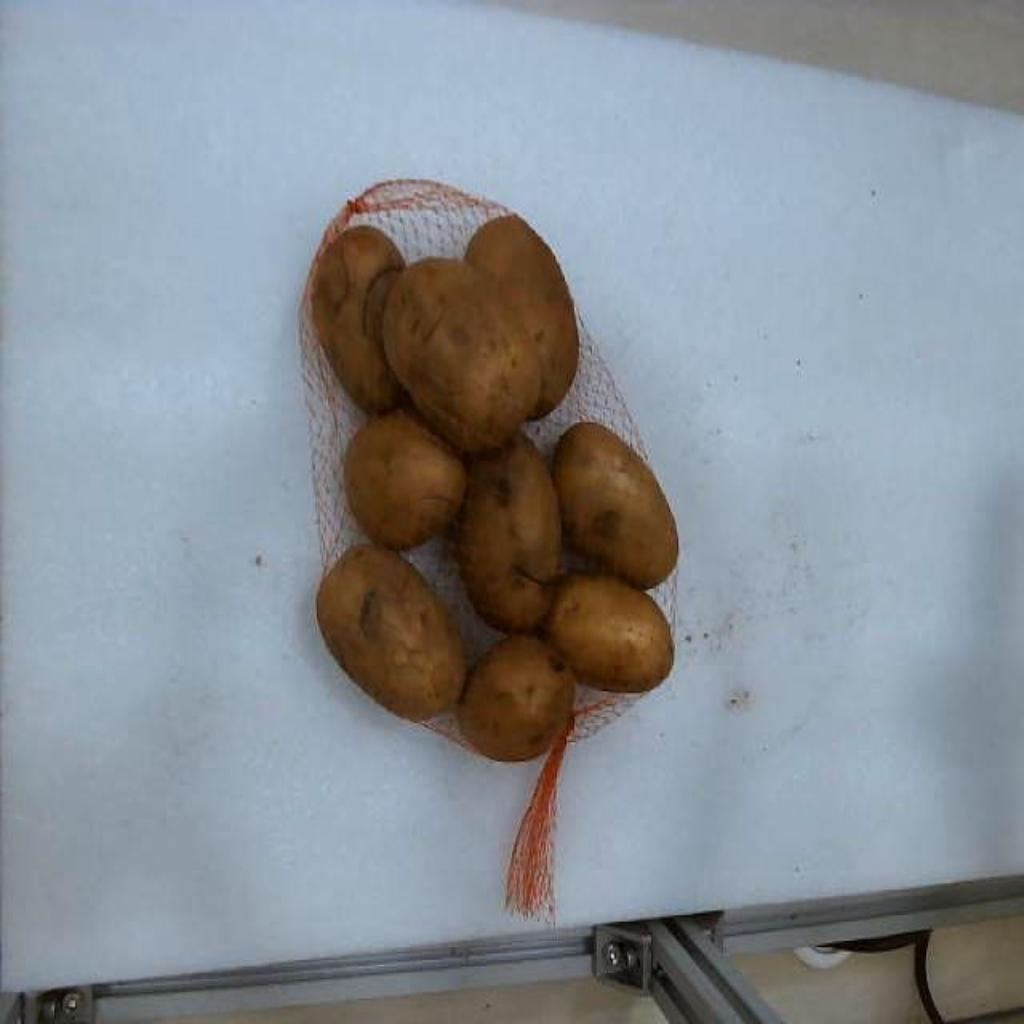potato: (382, 259, 536, 453), (316, 544, 466, 720), (466, 216, 578, 417), (552, 421, 678, 588), (458, 437, 562, 632), (312, 227, 406, 412), (346, 413, 466, 548), (544, 576, 674, 693), (460, 635, 574, 761)
